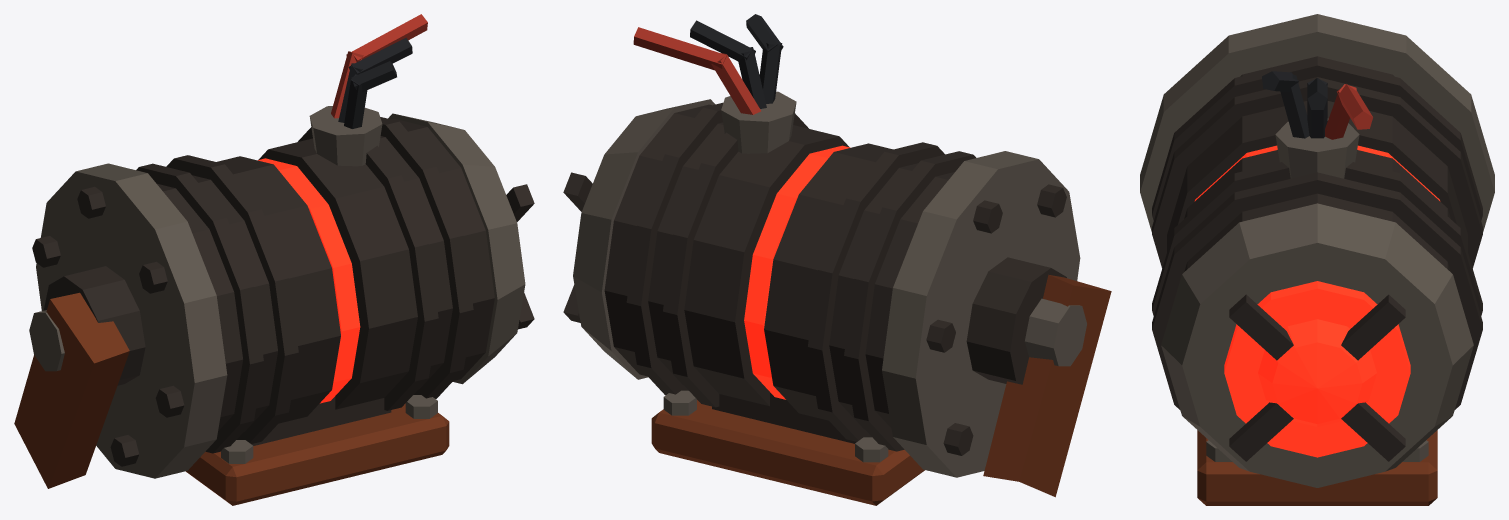
The model's file is servo_heart.glb.
3 renders of one model, left to right at view 1: azimuth 30°, elevation 25°; view 2: azimuth 150°, elevation 25°; view 3: azimuth 270°, elevation 25°, orthographic. The views are drawn at different scales.
Visible parts, largest first — view 1: servo_heart; view 2: servo_heart; view 3: servo_heart.
Part boxes in pixels (x1,y1,x2,y2): servo_heart: (14,14,534,505); servo_heart: (563,14,1111,505); servo_heart: (1140,14,1494,505).
Bounding box in the file's own units: 0.198 × 0.1549 × 0.118.
